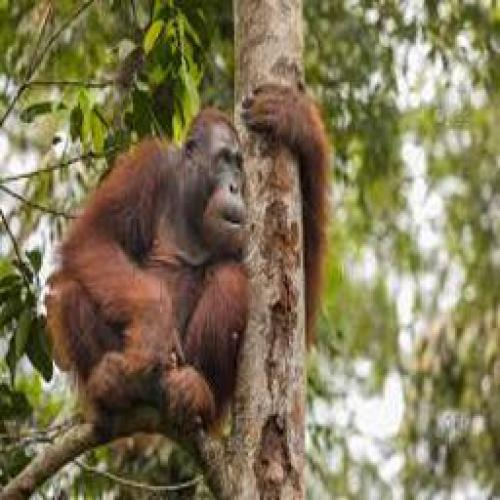orangutan-endangered: (45, 92, 338, 440)
